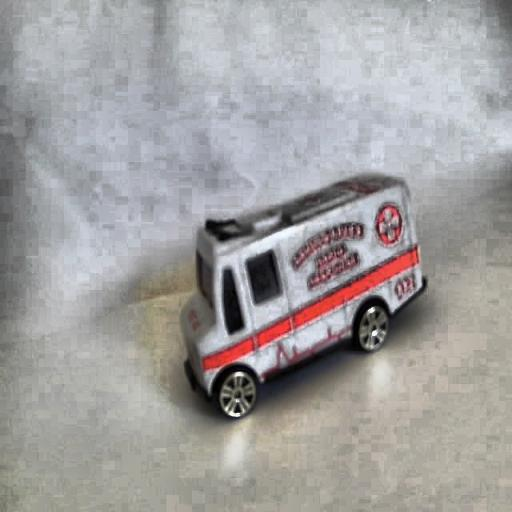ambulance: (180, 171, 426, 419)
